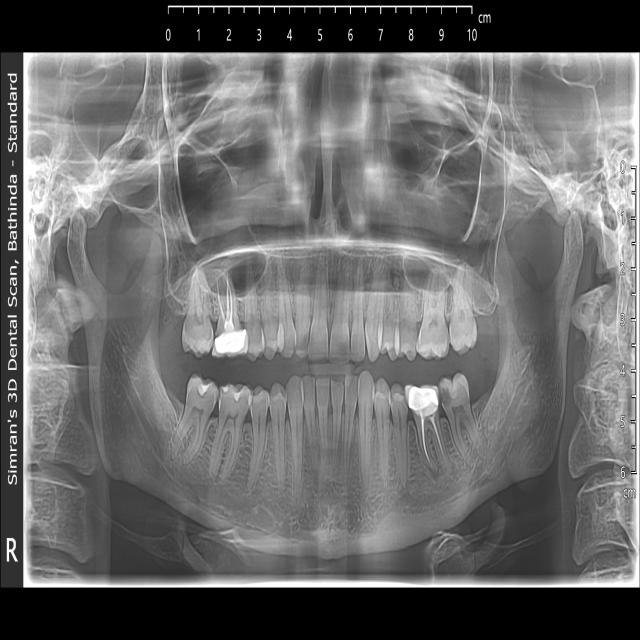Caries: (182, 312, 214, 352), (441, 387, 449, 404)
Filling: (185, 374, 218, 420), (218, 383, 251, 425)
Root Canal Treatment: (406, 385, 453, 476), (212, 263, 248, 356)
